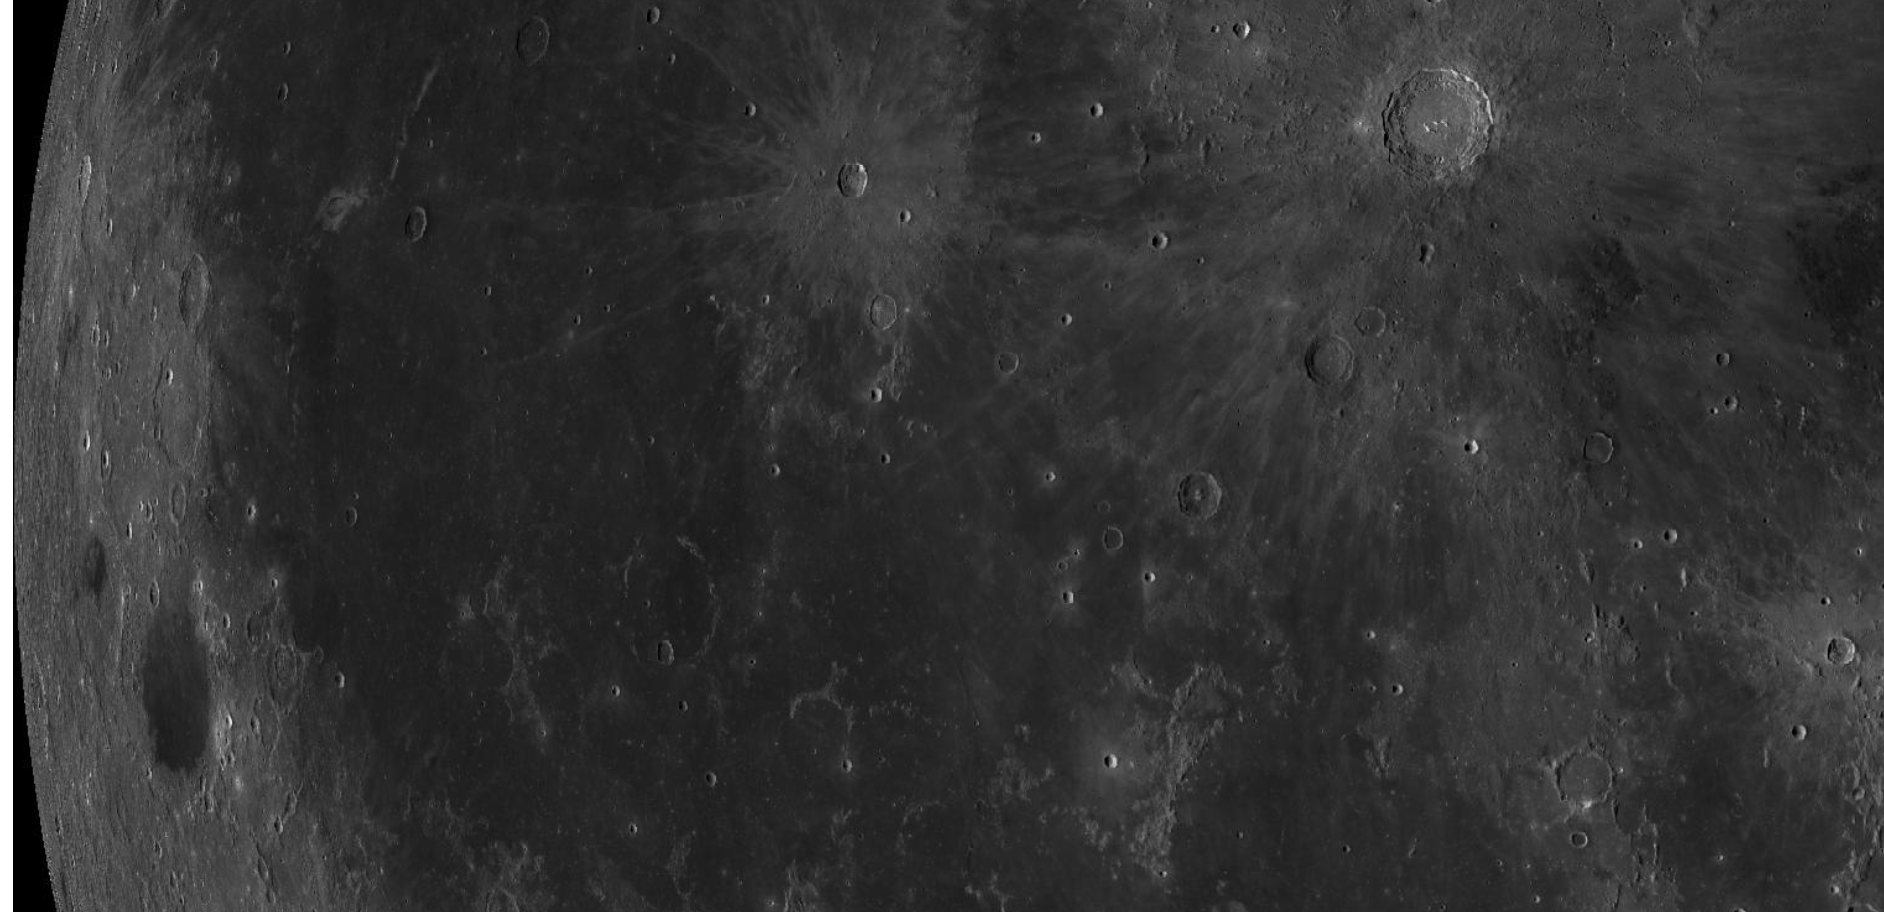crater: (682, 56, 1003, 354), (99, 582, 257, 813), (1363, 56, 1512, 203), (1272, 317, 1360, 415), (1065, 702, 1143, 801), (1677, 312, 1773, 389), (66, 507, 131, 620), (392, 189, 465, 284), (173, 243, 250, 330), (1120, 204, 1190, 280), (1162, 457, 1236, 526), (497, 13, 580, 76), (1801, 615, 1877, 681), (1564, 421, 1632, 479), (160, 470, 220, 532), (676, 744, 735, 806), (246, 68, 306, 129), (819, 729, 871, 793), (312, 493, 382, 540), (643, 628, 686, 676), (1560, 815, 1603, 862), (72, 147, 106, 204)
